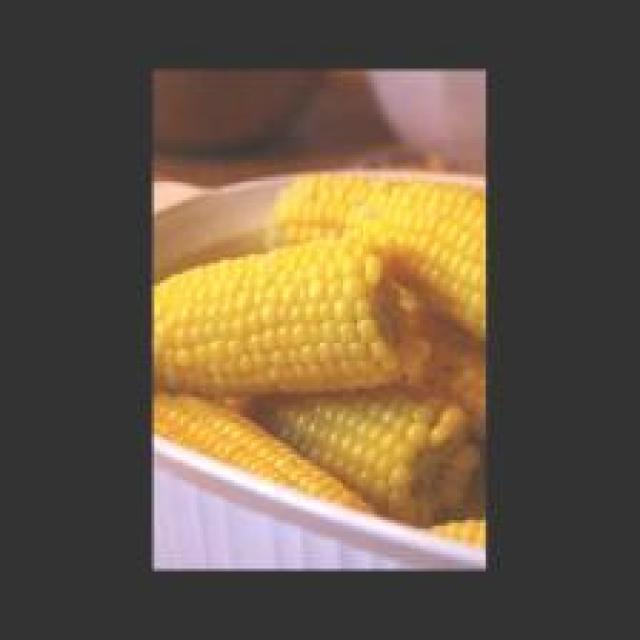corn: (157, 174, 486, 554)
